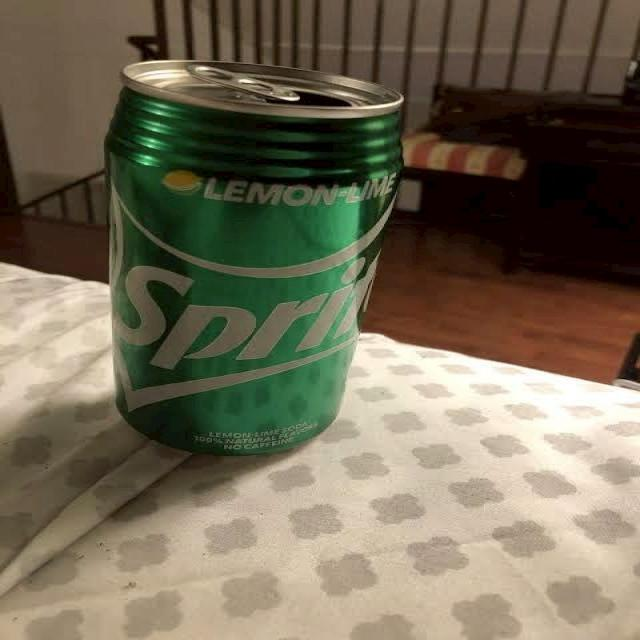can: (92, 48, 398, 468)
